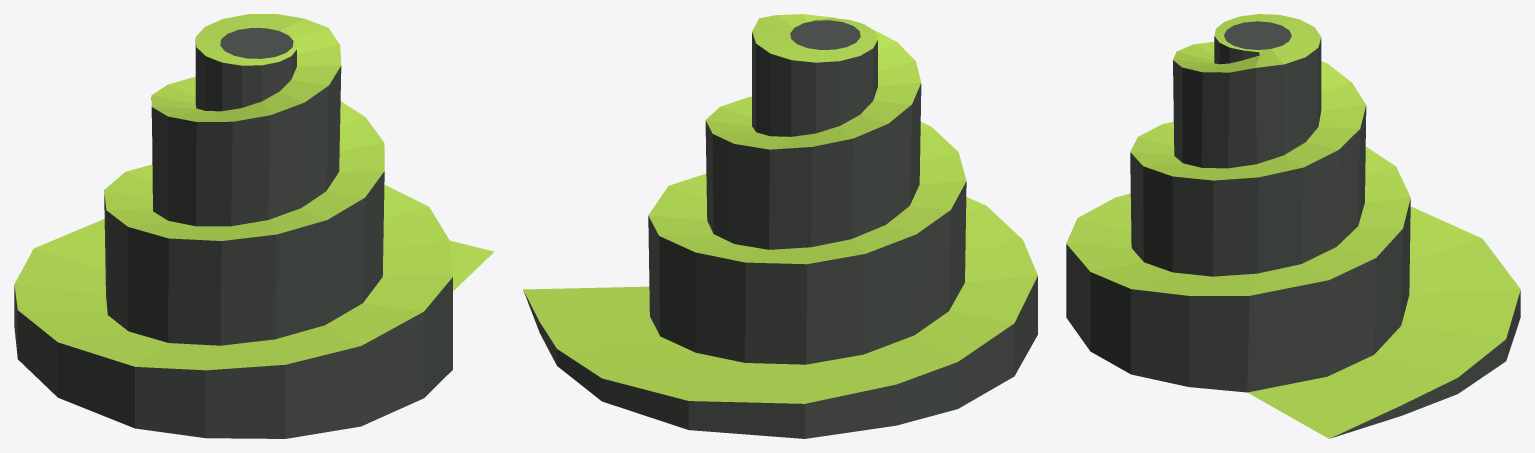
The model's file is Mountain.var1.fbx.
The picture shows the model from 3 angles, left to right: view 1: azimuth 30°, elevation 25°; view 2: azimuth 150°, elevation 25°; view 3: azimuth 270°, elevation 25°; orthographic projection. The views are drawn at different scales.
Visible parts, largest first — view 1: Circle.004; view 2: Circle.004; view 3: Circle.004.
Boxes of the visible parts, <box> form: Circle.004: <box>14,14,493,438</box>; Circle.004: <box>523,14,1037,438</box>; Circle.004: <box>1066,14,1520,438</box>.
Bounding box in the file's own units: 10039 × 6202 × 9069.
